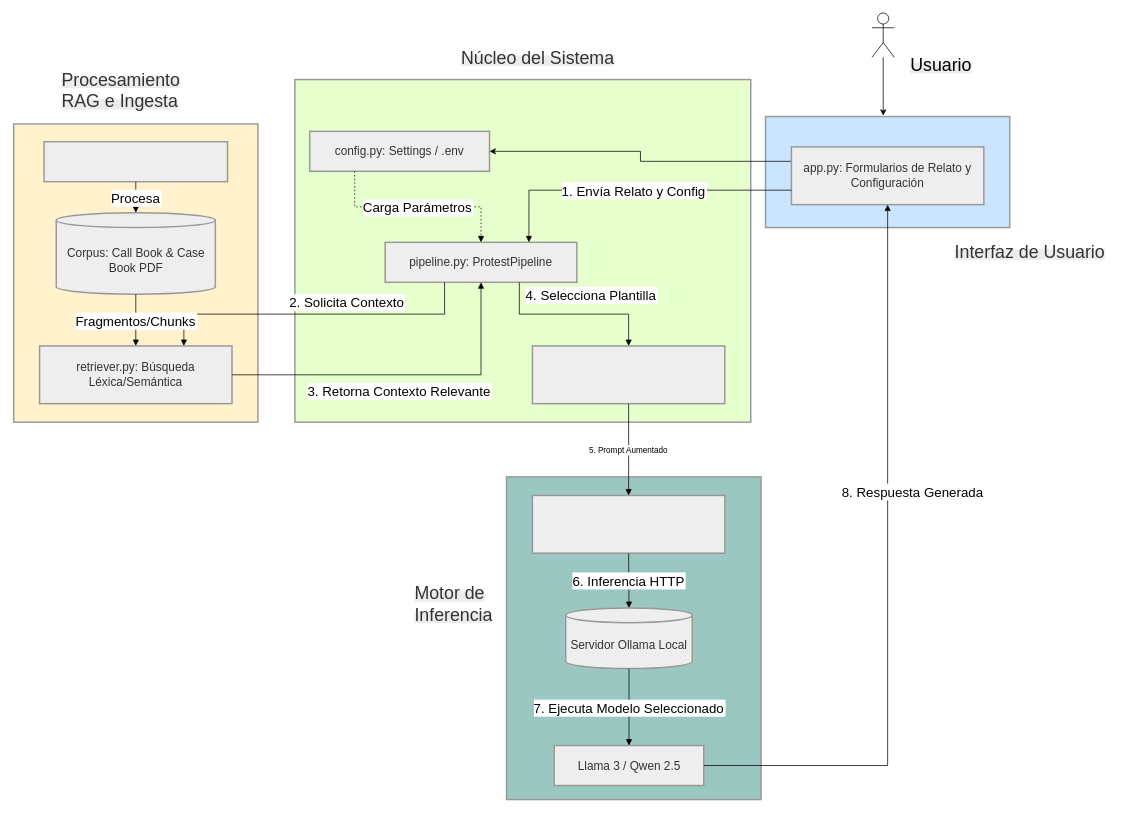
Some shapes in this 1129 by 813 pixel diagram are drawn without their labels. Each missing label, with the centre of its shape:
ingestion.py: pypdf Parser: point (135, 161)
llm/base.py: HTTPChatClient: point (628, 524)
prompts.py: Plantillas CoT/FS-CoT: point (628, 374)
